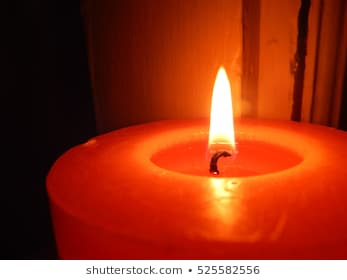Fire: (208, 62, 237, 149)
